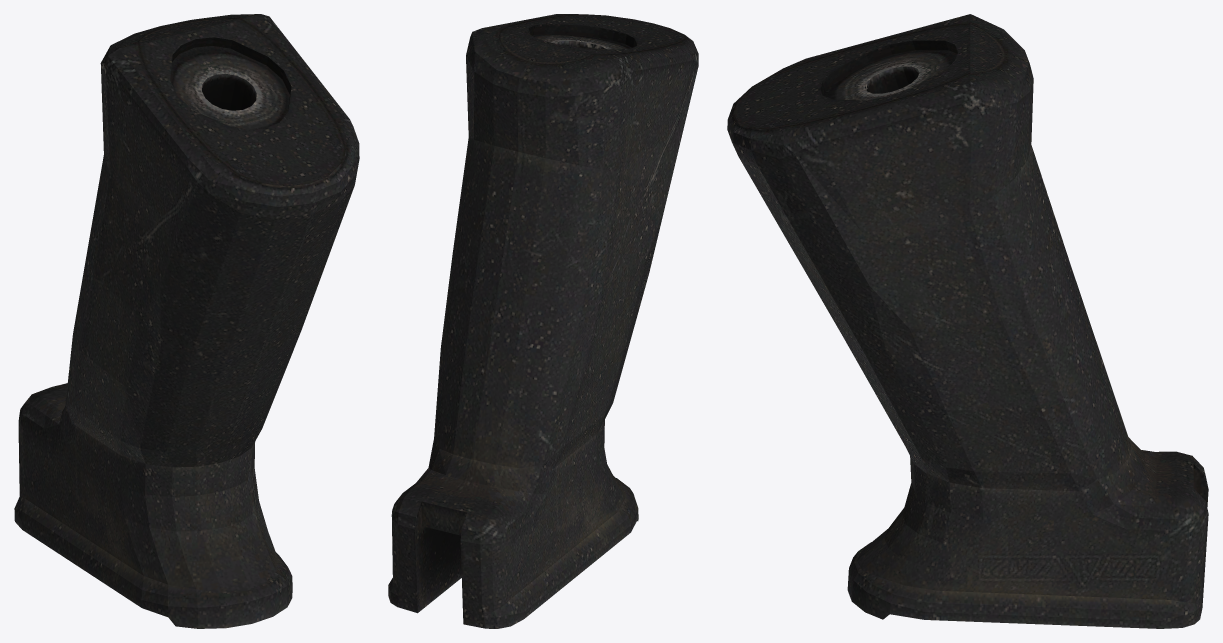
3 renders of one model, left to right at view 1: azimuth 30°, elevation 25°; view 2: azimuth 150°, elevation 25°; view 3: azimuth 270°, elevation 25°, orthographic. The views are drawn at different scales.
Visible parts, largest first — view 1: TW_5998517986f7746017232f7e_PZ_Import; view 2: TW_5998517986f7746017232f7e_PZ_Import; view 3: TW_5998517986f7746017232f7e_PZ_Import.
Part boxes in pixels (left/top/right/bottom): TW_5998517986f7746017232f7e_PZ_Import: left=14, top=14, right=359, bottom=628; TW_5998517986f7746017232f7e_PZ_Import: left=388, top=14, right=698, bottom=628; TW_5998517986f7746017232f7e_PZ_Import: left=727, top=14, right=1208, bottom=628.
Size of the model in its own units: 0.0199 by 0.0502 by 0.063.
Materials: 1 (1 with a texture image).
